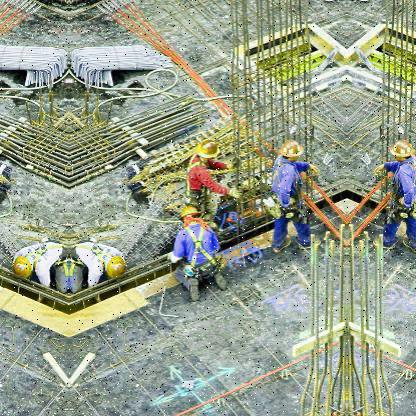Helmet: (13, 247, 36, 280), (195, 134, 218, 166), (391, 140, 415, 165), (280, 140, 304, 162), (108, 254, 126, 279), (182, 204, 203, 225)
